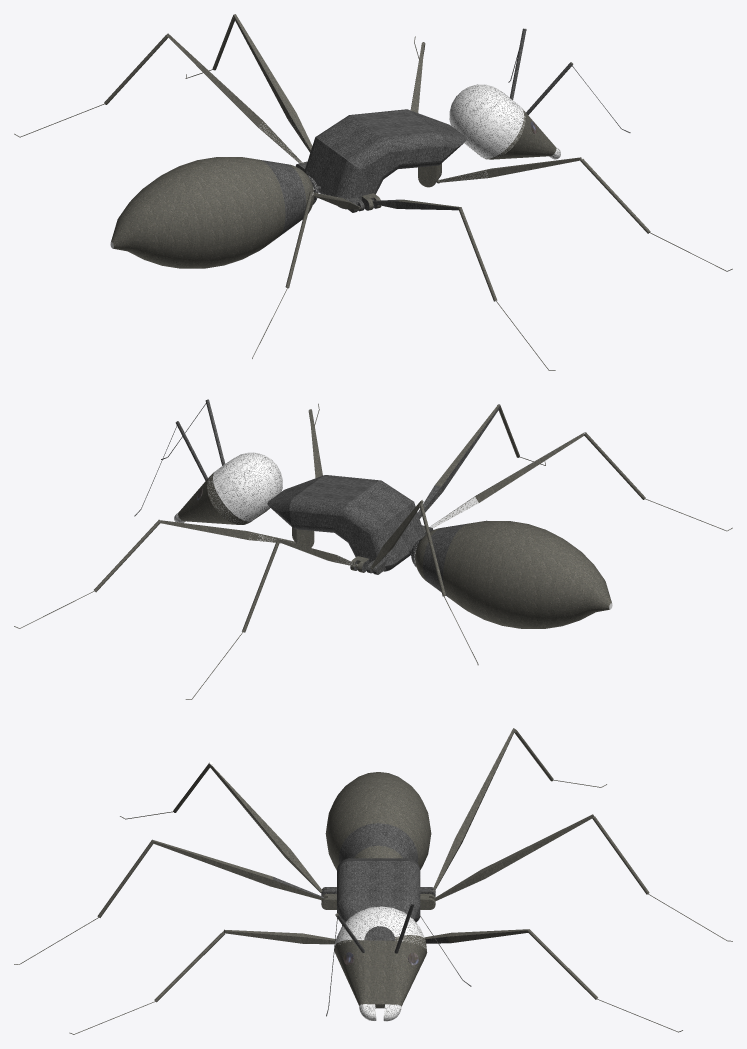
The picture shows the model from 3 angles, top to bottom: view 1: azimuth 30°, elevation 25°; view 2: azimuth 150°, elevation 25°; view 3: azimuth 270°, elevation 25°; orthographic projection. The views are drawn at different scales.
Parts seen in each view (by area): view 1: SketchUp (×9); view 2: SketchUp (×11); view 3: SketchUp (×11).
Part boxes in pixels (x1=…): SketchUp (×9): x1=111, y1=14, x2=581, y2=268; SketchUp (×11): x1=160, y1=406, x2=611, y2=628; SketchUp (×11): x1=152, y1=728, x2=594, y2=1008.
Size of the model in its own units: 426 by 556 by 151.
Materials: 4 (3 with a texture image).
